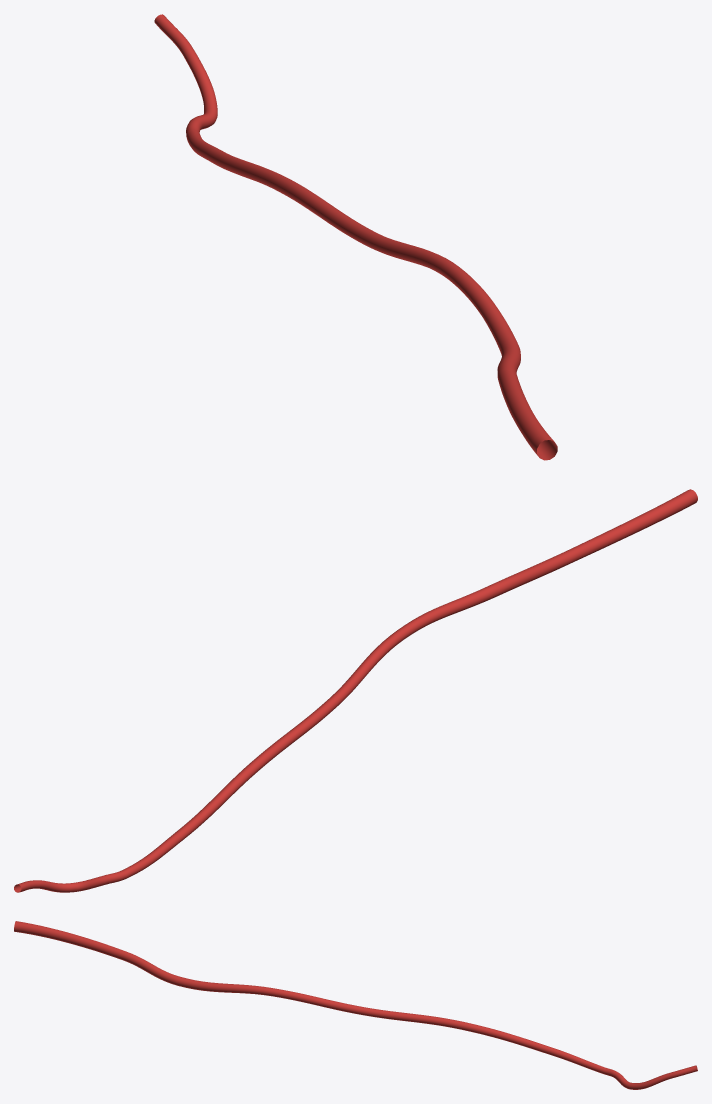
3 views of the same model, one above another, from view 1: azimuth 30°, elevation 25°; view 2: azimuth 150°, elevation 25°; view 3: azimuth 270°, elevation 25° (orthographic). The views are drawn at different scales.
Visible parts, largest first — view 1: 左侧桡动脉; view 2: 左侧桡动脉; view 3: 左侧桡动脉.
Part boxes in pixels (<box>): 左侧桡动脉: <box>154,14,557,460</box>; 左侧桡动脉: <box>14,489,697,892</box>; 左侧桡动脉: <box>14,921,697,1089</box>.
Bounding box in the file's own units: 0.0954 × 0.0584 × 0.3632.
